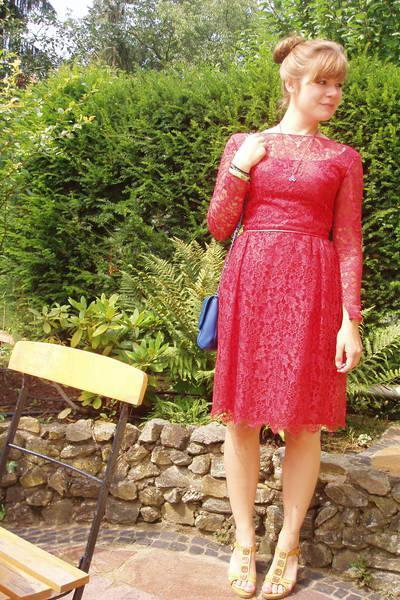bag: (197, 296, 219, 347)
dress: (204, 126, 369, 443)
shoe: (222, 540, 307, 599)
